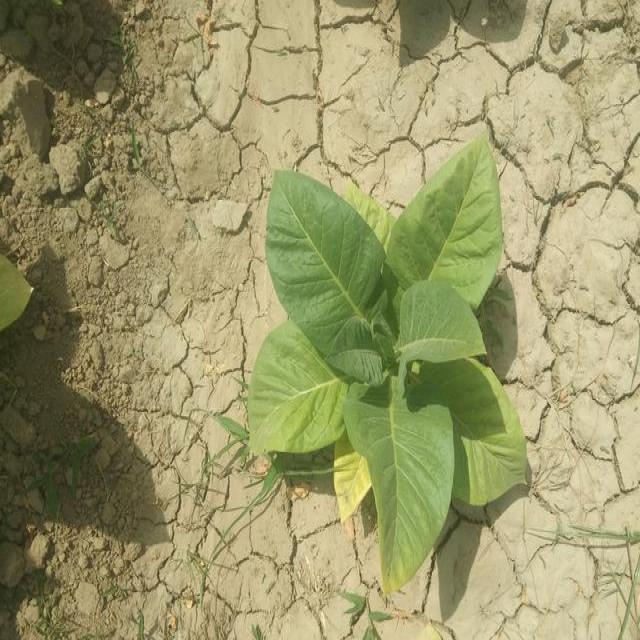crop: (245, 154, 532, 604)
